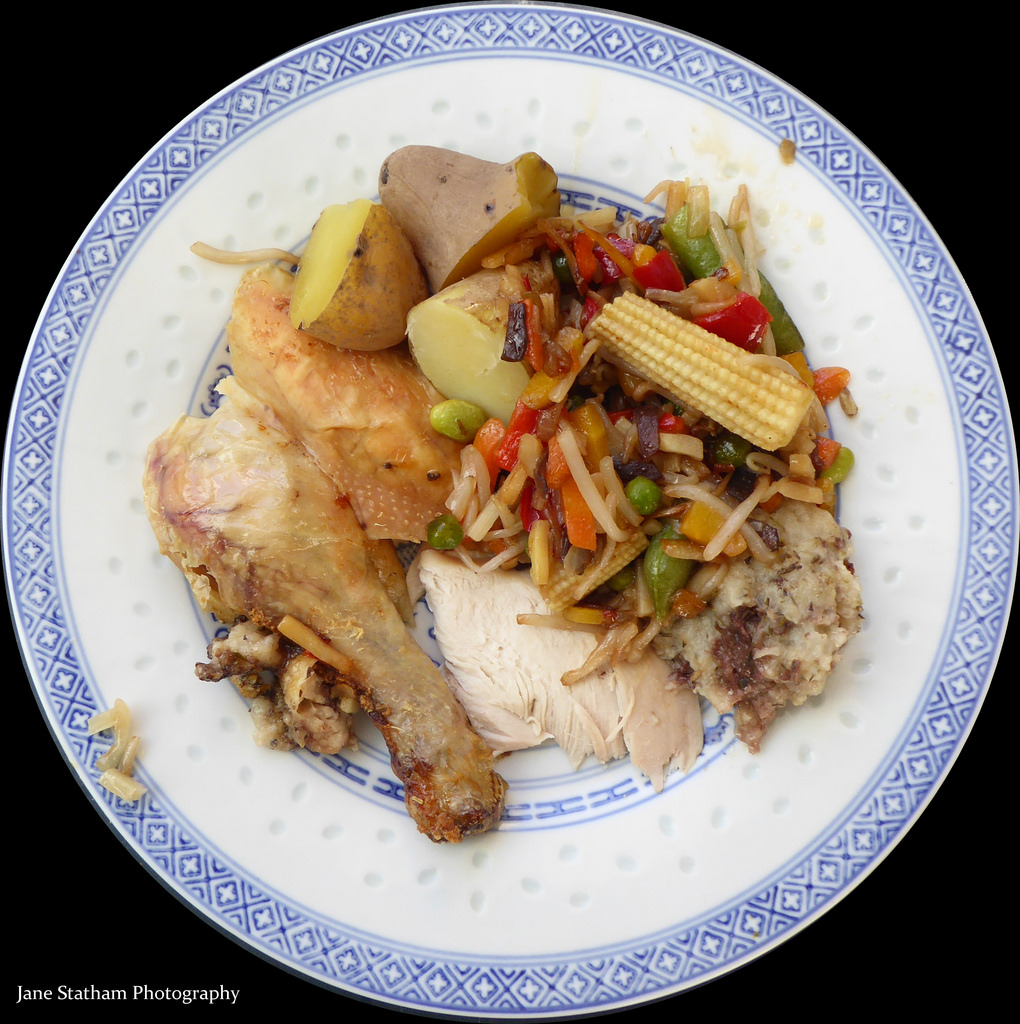boiled potatoes: (438, 271, 538, 401), (307, 207, 397, 327)
